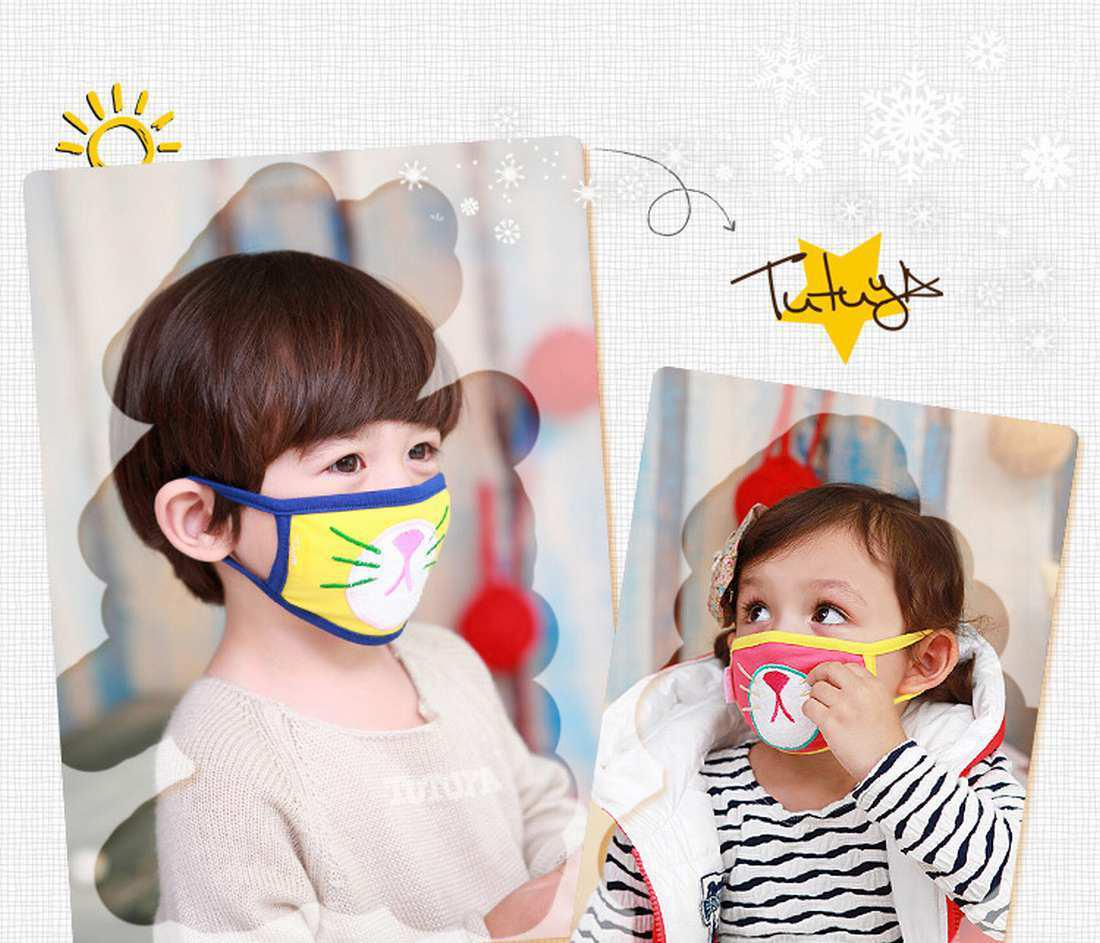OK: (213, 395, 455, 637), (716, 555, 913, 752)
